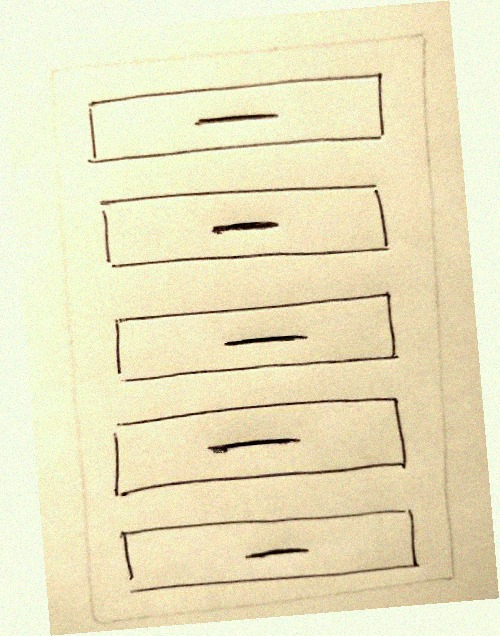button: (112, 492, 429, 605), (102, 388, 420, 500), (88, 173, 400, 279), (81, 65, 392, 171), (100, 284, 411, 390)
